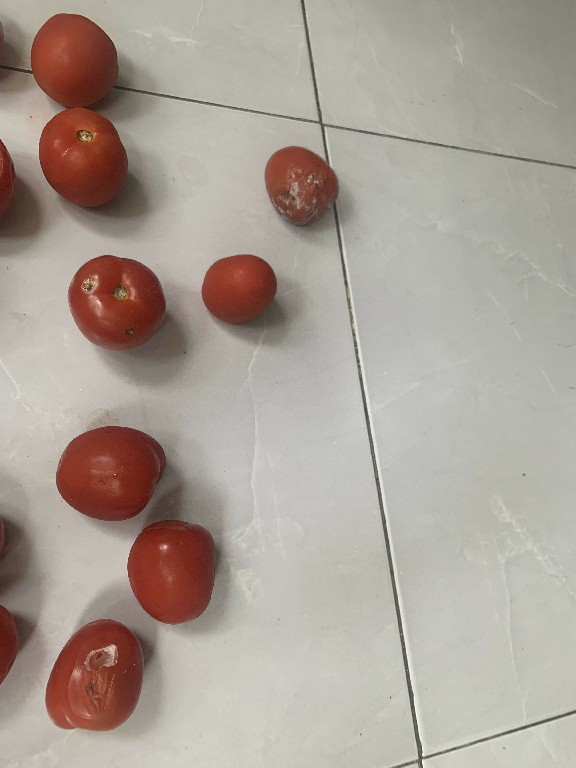NG: (38, 614, 148, 735), (61, 252, 170, 351), (259, 140, 340, 228)
OK: (47, 420, 170, 522), (124, 511, 227, 626), (36, 106, 133, 207), (26, 10, 117, 105), (196, 252, 283, 327)
